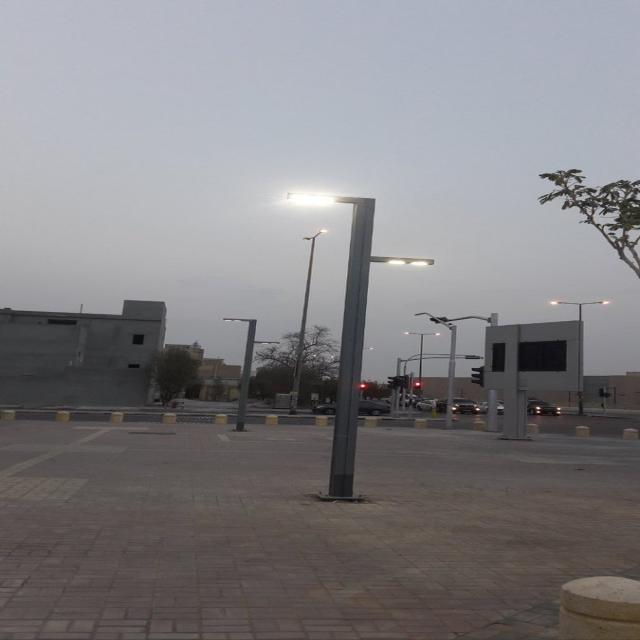Street Light: (282, 191, 378, 495), (287, 229, 332, 411), (549, 298, 610, 417), (404, 331, 441, 405)
